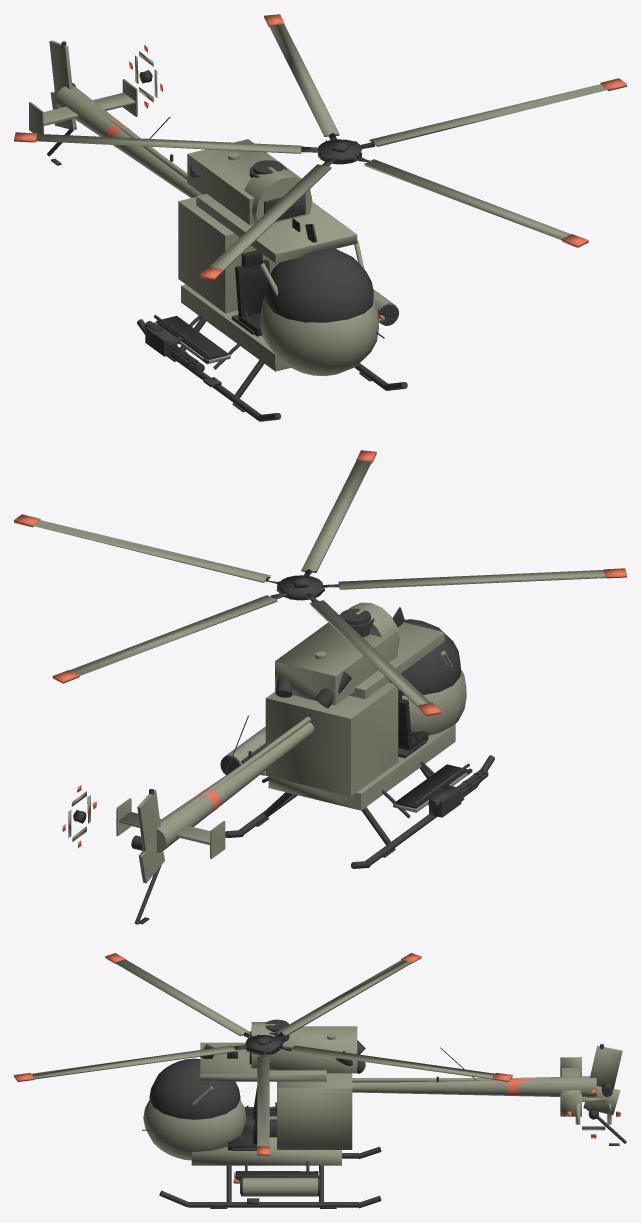
File: scout.glb
3 views of the same model, one above another, from view 1: azimuth 30°, elevation 25°; view 2: azimuth 150°, elevation 25°; view 3: azimuth 270°, elevation 25° (orthographic). The views are drawn at different scales.
Visible parts, largest first — view 1: body, rotor_main, rotor_tail; view 2: body, rotor_main; view 3: body, rotor_main, rotor_tail.
Part boxes in pixels (box(x1,y1,x2,y2)): body: box(29, 40, 407, 421); rotor_main: box(14, 14, 626, 280); rotor_tail: box(129, 45, 162, 108); body: box(116, 602, 494, 924); rotor_main: box(14, 450, 626, 716); body: box(142, 1019, 626, 1208); rotor_main: box(14, 953, 512, 1155); rotor_tail: box(566, 1089, 620, 1138).
Bounding box in the file's own units: 6.93 × 2.73 × 8.96.
